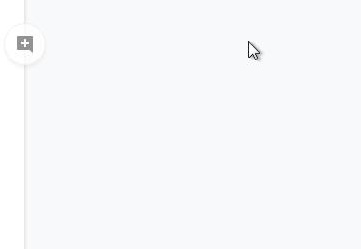cursor: (245, 39, 263, 64)
